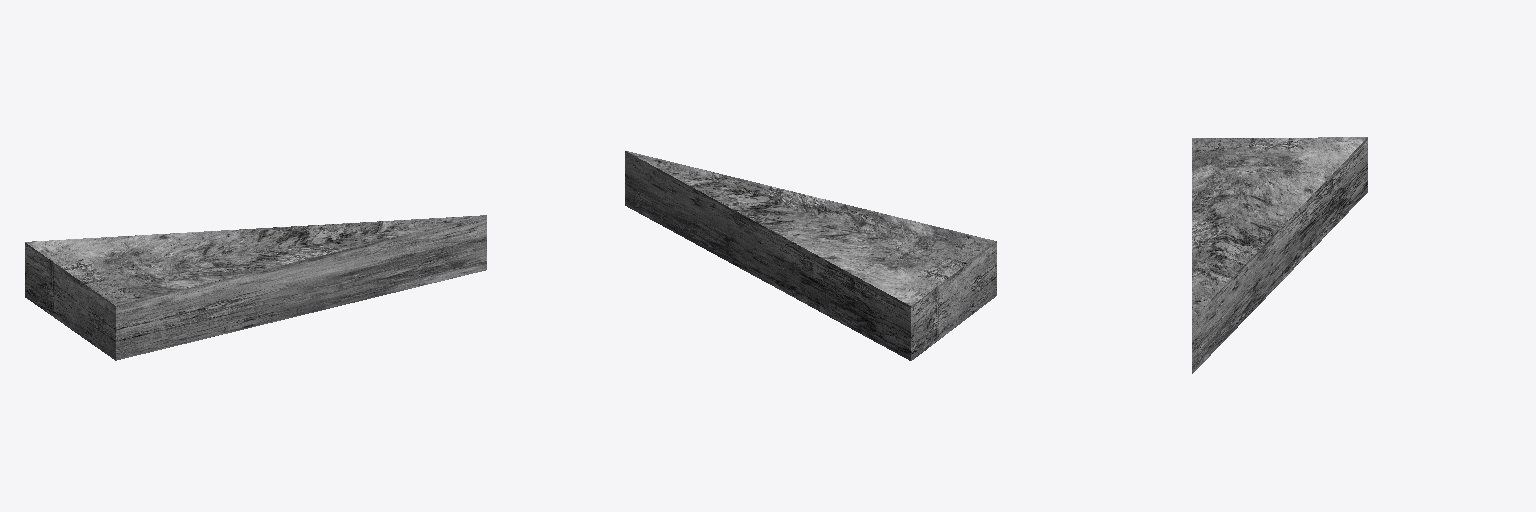
3 views of the same model, side by side, from view 1: azimuth 30°, elevation 25°; view 2: azimuth 150°, elevation 25°; view 3: azimuth 270°, elevation 25° (orthographic).
Visible parts, largest first — view 1: Prism003; view 2: Prism003; view 3: Prism003.
Part boxes in pixels (x1,y1,x2,y2): Prism003: (25,215,486,360); Prism003: (625,151,996,360); Prism003: (1192,137,1367,373).
Bounding box in the file's own units: 14.25 × 2 × 5.81.
1 materials, 1 textured.